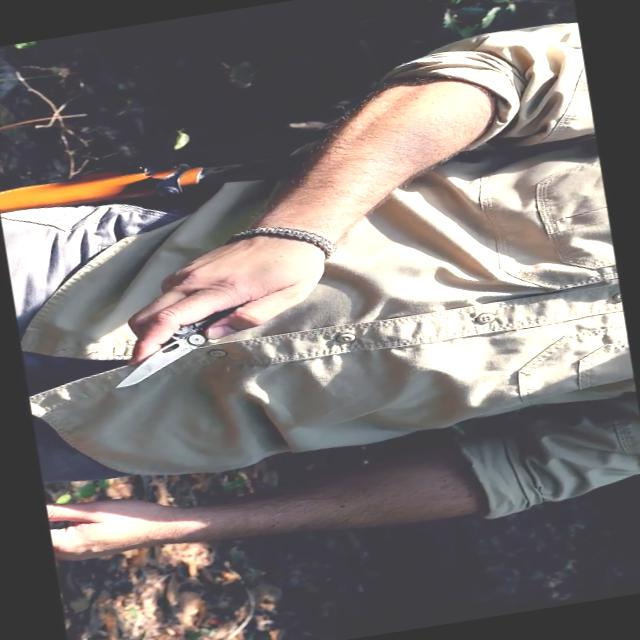knife: (80, 264, 268, 402)
